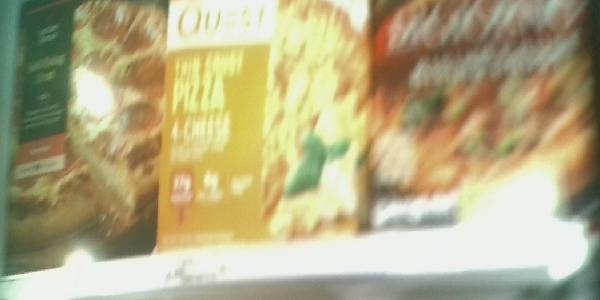pizza1: (366, 1, 600, 234), (157, 1, 368, 246), (5, 1, 160, 250)
